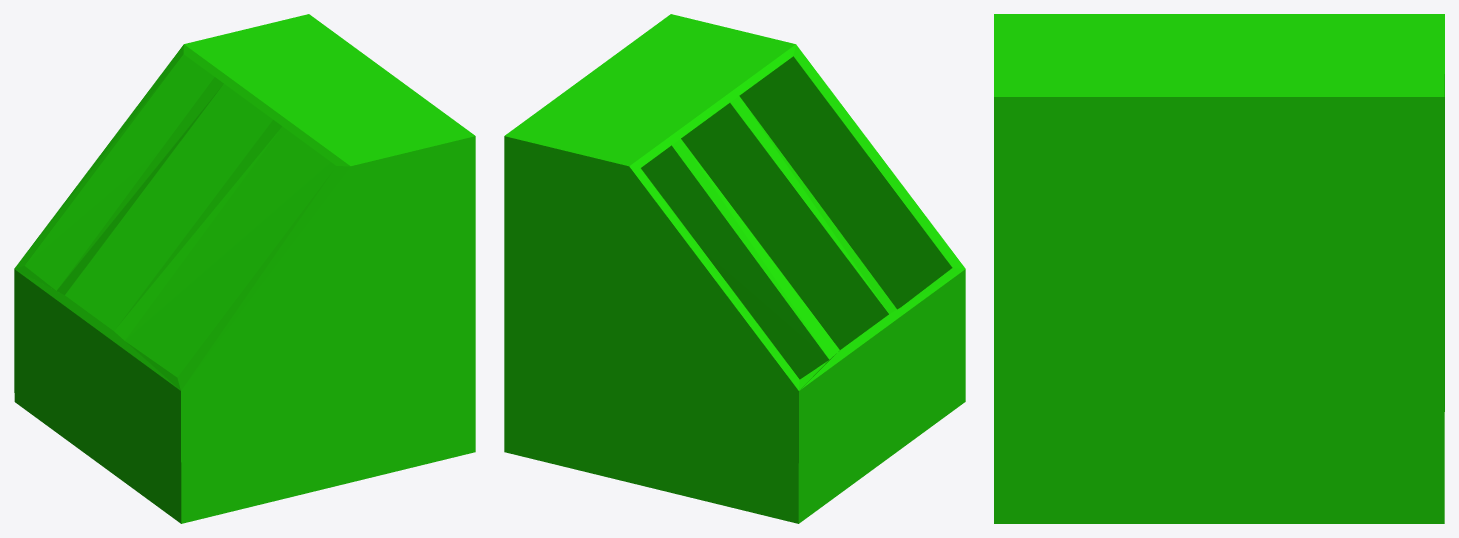
Rendered from SM_Shelf_08_Collider.fbx.
3 renders of one model, left to right at view 1: azimuth 30°, elevation 25°; view 2: azimuth 150°, elevation 25°; view 3: azimuth 270°, elevation 25°, orthographic. The views are drawn at different scales.
Parts seen in each view (by area): view 1: SM_Shelf_08_Collider; view 2: SM_Shelf_08_Collider; view 3: SM_Shelf_08_Collider.
Boxes of the visible parts, <box> form: SM_Shelf_08_Collider: <box>14,14,475,523</box>; SM_Shelf_08_Collider: <box>504,14,965,523</box>; SM_Shelf_08_Collider: <box>994,14,1444,523</box>.
Size of the model in its own units: 95.61 by 98.04 by 93.72.
